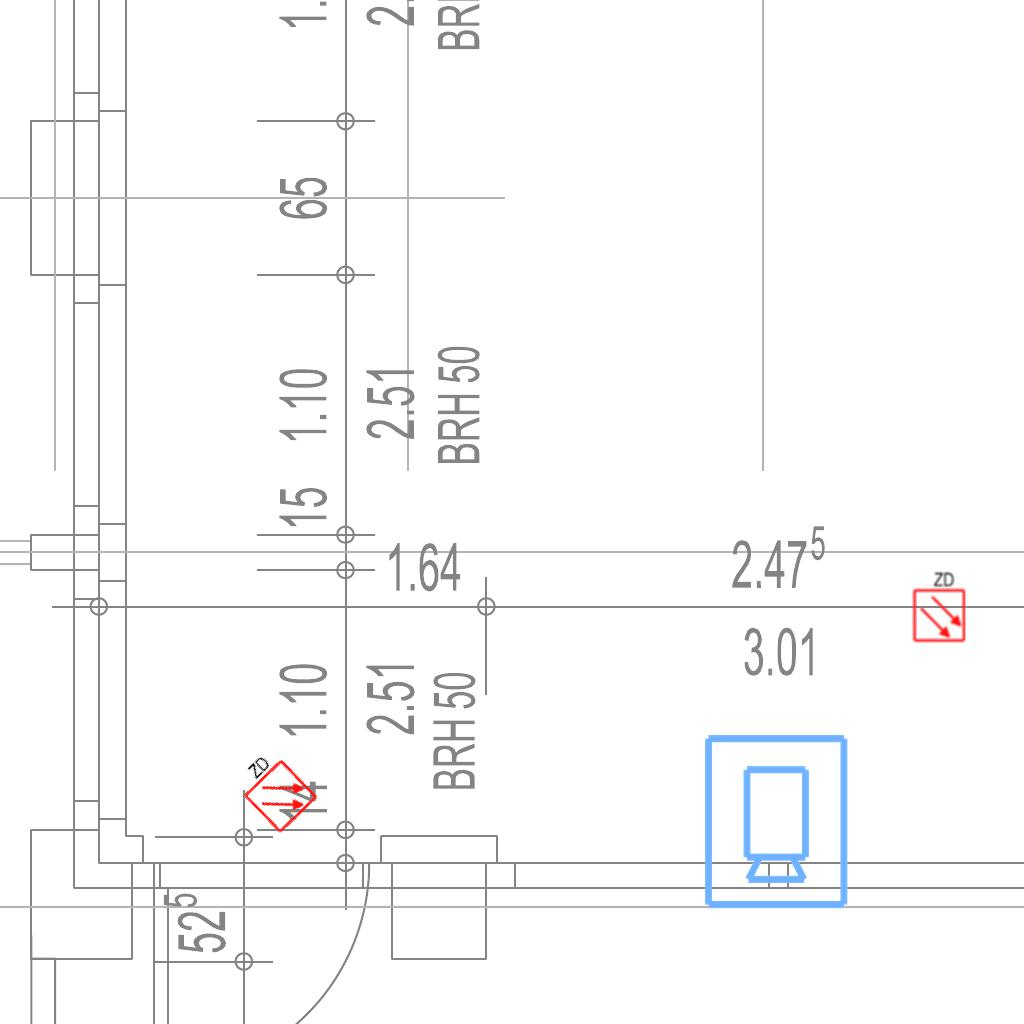KFO_Kamera_mit_Festobjektiv: (698, 730, 852, 912)
ZD_Melder_in_Zwischendecke_mit_Revisionsoeffnung_mind_40_x_40_cm: (227, 743, 320, 837), (910, 569, 967, 643)
